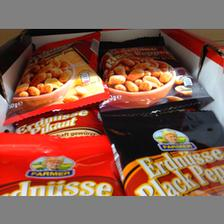Nuss: (99, 109, 223, 195), (94, 35, 214, 111), (5, 32, 105, 116)
